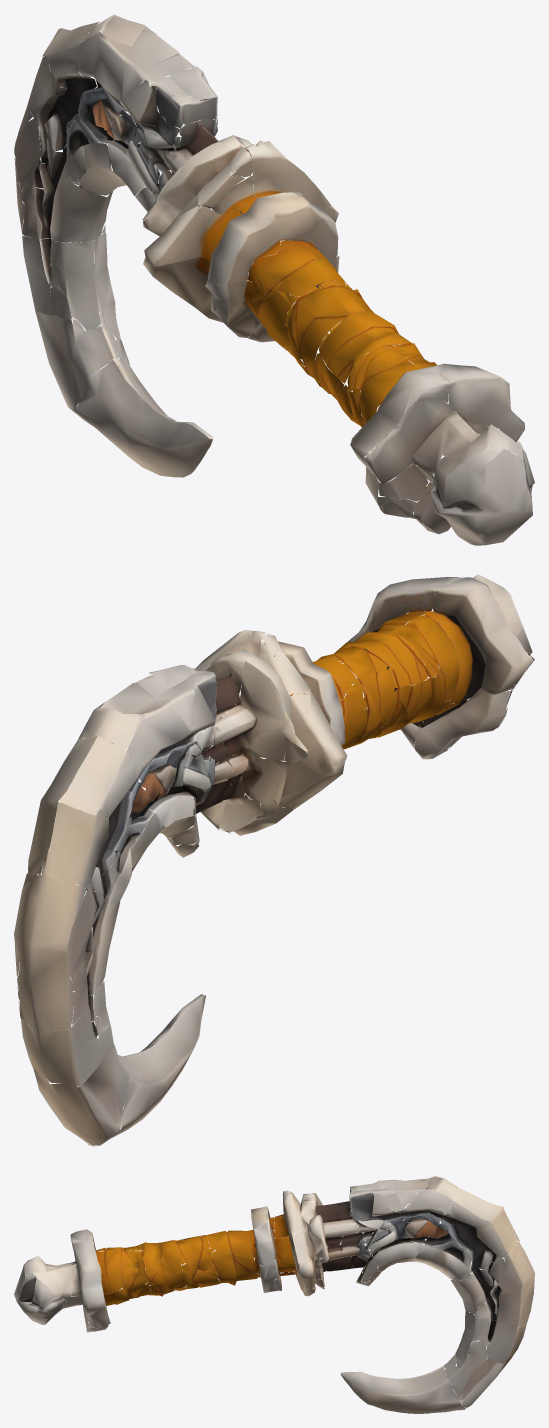
3 renders of one model, top to bottom at view 1: azimuth 30°, elevation 25°; view 2: azimuth 150°, elevation 25°; view 3: azimuth 270°, elevation 25°, orthographic. The views are drawn at different scales.
Visible parts, largest first — view 1: W201; view 2: W201; view 3: W201.
Part boxes in pixels (x1,y1,x2,y2): W201: (14, 14, 534, 545); W201: (14, 574, 534, 1147); W201: (14, 1176, 534, 1413).
Size of the model in its own units: 0.1966 by 0.4241 by 0.8499.
Materials: 1 (1 with a texture image).
